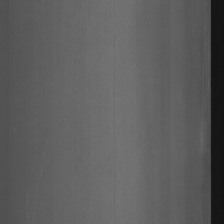silk_spot: (199, 12, 210, 147)
